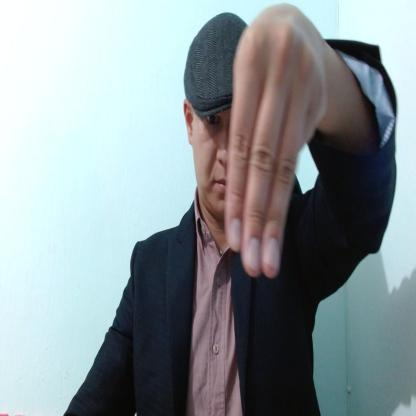M: (226, 6, 328, 279)
